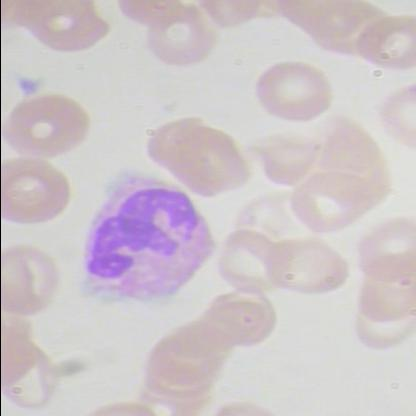Platelets: (11, 74, 45, 99)
RBC: (140, 112, 252, 198), (0, 89, 94, 163), (247, 58, 332, 126), (283, 170, 370, 236), (263, 235, 351, 300), (1, 154, 74, 230), (1, 320, 61, 412), (1, 241, 68, 319), (198, 284, 274, 349), (144, 4, 218, 67), (349, 214, 415, 281), (349, 260, 415, 326), (348, 12, 416, 71)
WBC: (70, 156, 218, 310)
